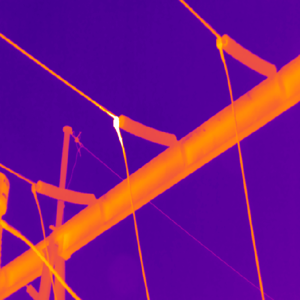insulator: (219, 33, 276, 78), (117, 113, 177, 150), (35, 178, 95, 207)
